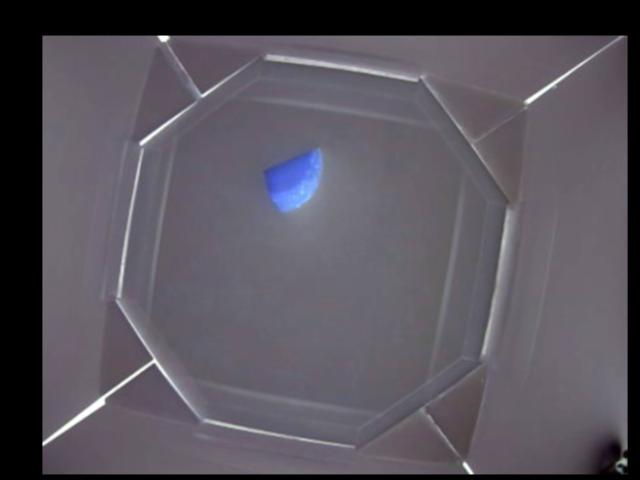Potato: (262, 146, 323, 212)
